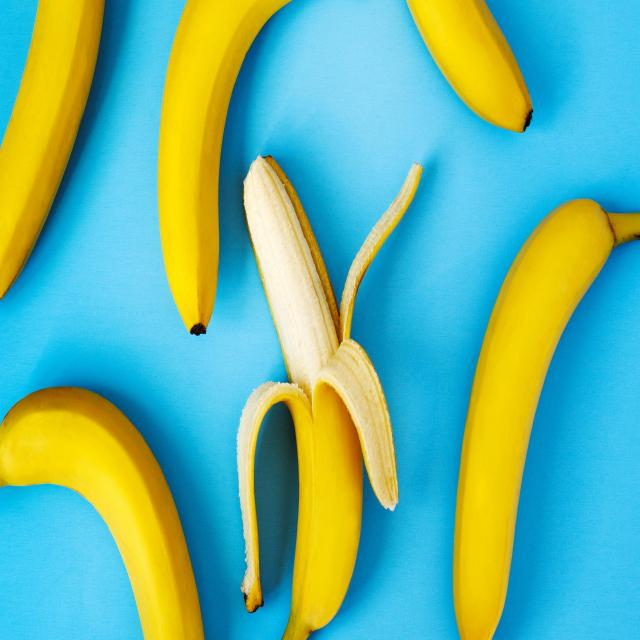banana: (227, 139, 427, 640), (447, 162, 640, 640), (149, 0, 314, 346), (0, 378, 210, 640)
